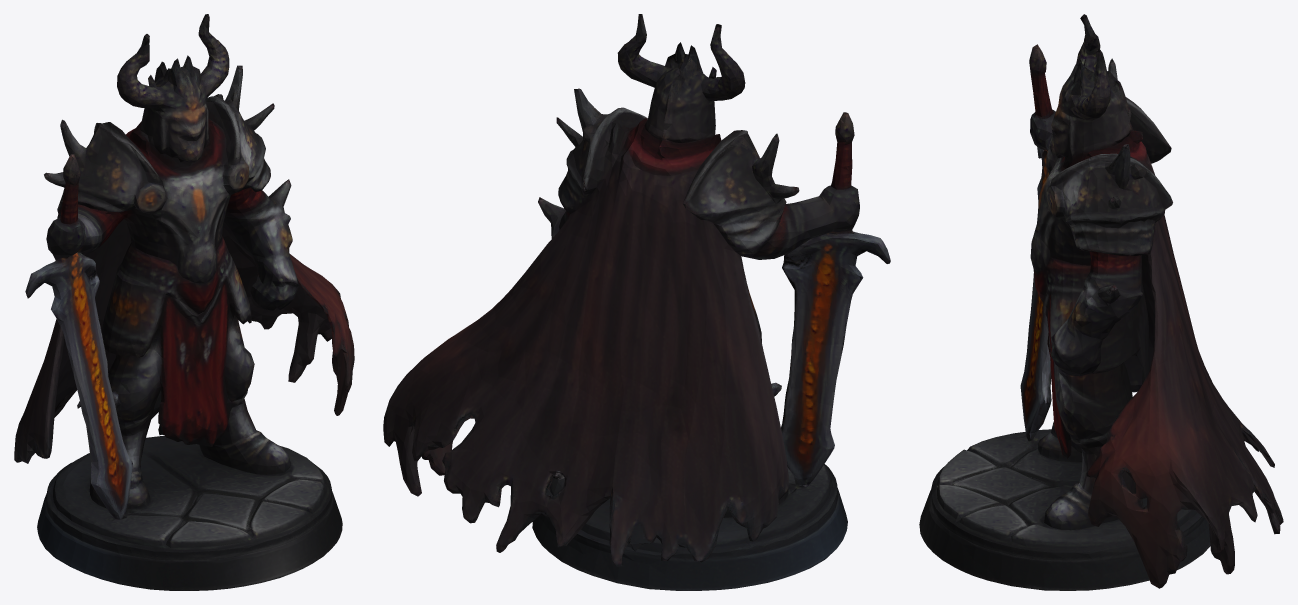
The picture shows the model from 3 angles, left to right: view 1: azimuth 30°, elevation 25°; view 2: azimuth 150°, elevation 25°; view 3: azimuth 270°, elevation 25°; orthographic projection. The views are drawn at different scales.
Parts seen in each view (by area): view 1: world; view 2: world; view 3: world.
Part boxes in pixels (x1,y1,x2,y2): world: (14, 14, 354, 590); world: (383, 14, 890, 590); world: (919, 14, 1283, 590).
Bounding box in the file's own units: 0.5729 × 0.6818 × 0.4548.
Materials: 1 (1 with a texture image).
